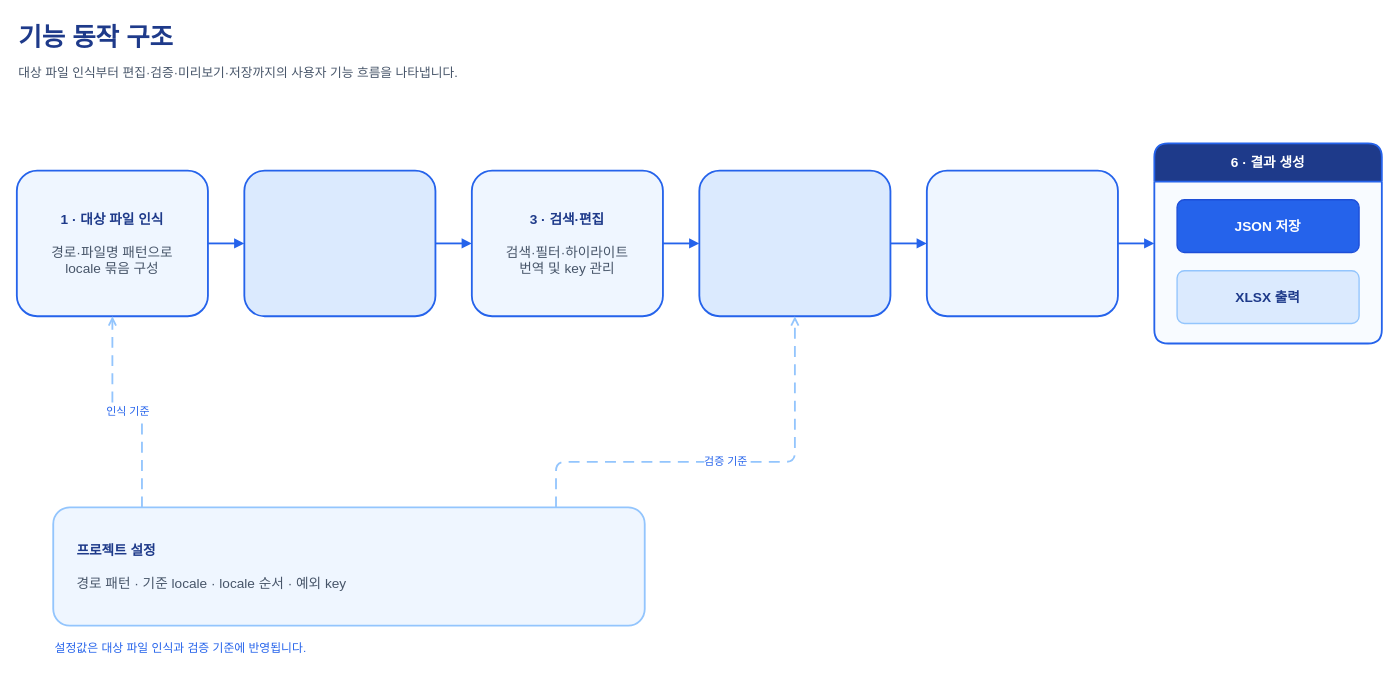
Some shapes in this 1398 by 677 pixel diagram are drawn without their labels. Here are the shapes that lost their labels. From the top down, the centre of each, then its label:
At point (339, 243): "2 · 통합 그리드 언어별 값을 한 행에서 비교·확인".
At point (794, 243): "4 · 검증·상태 누락·문자 체계·구조 오류 상태와 사유 표시".
At point (1021, 243): "5 · 미리보기·Diff 변경 건수·대상 파일·전후 값 적용 전 확인".
